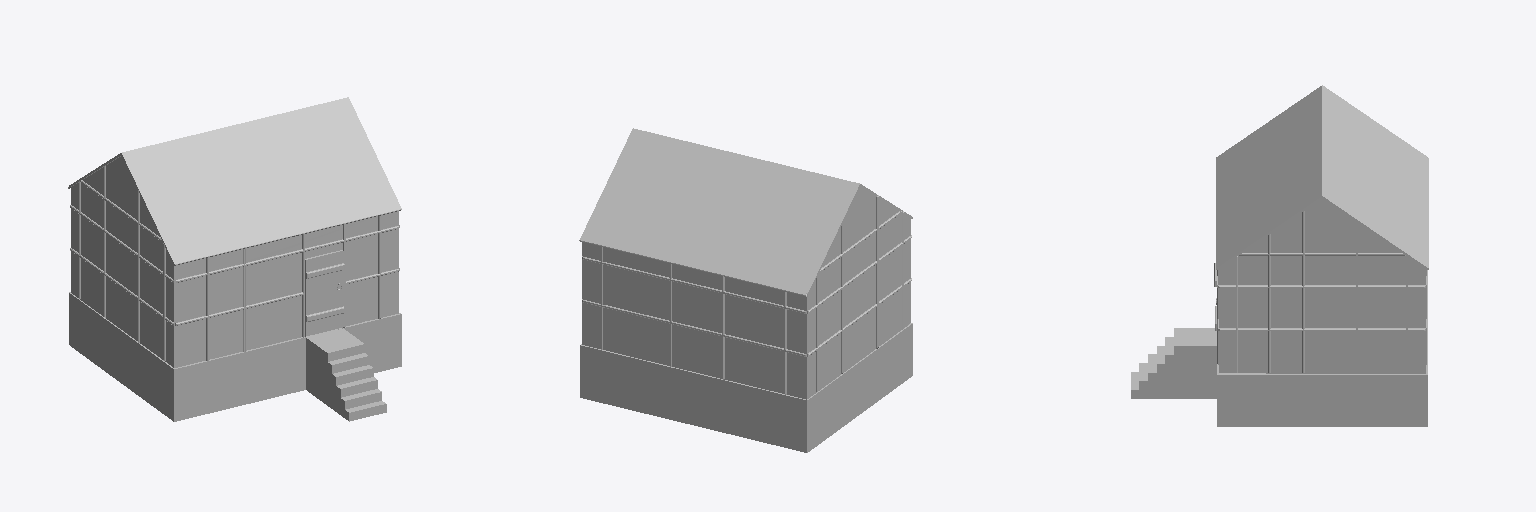
Rendered from VillagerHouseSmallWithStairs.obj.
3 views of the same model, side by side, from view 1: azimuth 30°, elevation 25°; view 2: azimuth 150°, elevation 25°; view 3: azimuth 270°, elevation 25° (orthographic).
Parts seen in each view (by area): view 1: House3_polySurface10, House3_polySurface10 DoorHinge2 Door2; view 2: House3_polySurface10; view 3: House3_polySurface10.
Boxes of the visible parts, box(x1,y1,x2,y2) form: House3_polySurface10: box(68, 97, 401, 421); House3_polySurface10 DoorHinge2 Door2: box(305, 250, 344, 336); House3_polySurface10: box(579, 128, 912, 452); House3_polySurface10: box(1131, 85, 1428, 426).
Size of the model in its own units: 43.87 by 42.45 by 49.68.